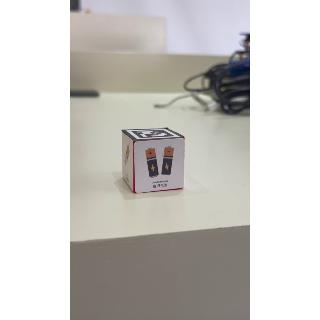Used_Battery: (134, 140, 184, 192)
